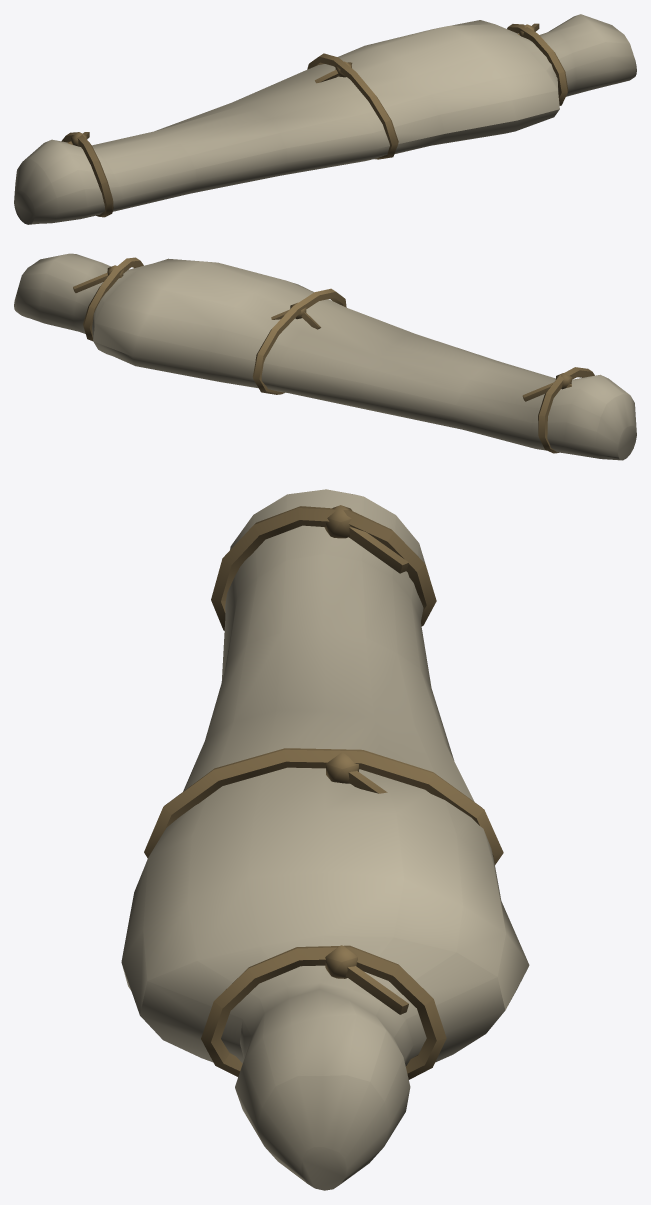
Rendered from ph_prop_corpse_shrouded.glb.
The picture shows the model from 3 angles, top to bottom: view 1: azimuth 30°, elevation 25°; view 2: azimuth 150°, elevation 25°; view 3: azimuth 270°, elevation 25°; orthographic projection. The views are drawn at different scales.
Visible parts, largest first — view 1: ph_prop_corpse_shrouded; view 2: ph_prop_corpse_shrouded; view 3: ph_prop_corpse_shrouded.
Boxes of the visible parts, <box> form: ph_prop_corpse_shrouded: <box>14,14,636,224</box>; ph_prop_corpse_shrouded: <box>14,253,636,460</box>; ph_prop_corpse_shrouded: <box>121,489,529,1190</box>.
Bounding box in the file's own units: 1.74 × 0.2227 × 0.5052.
